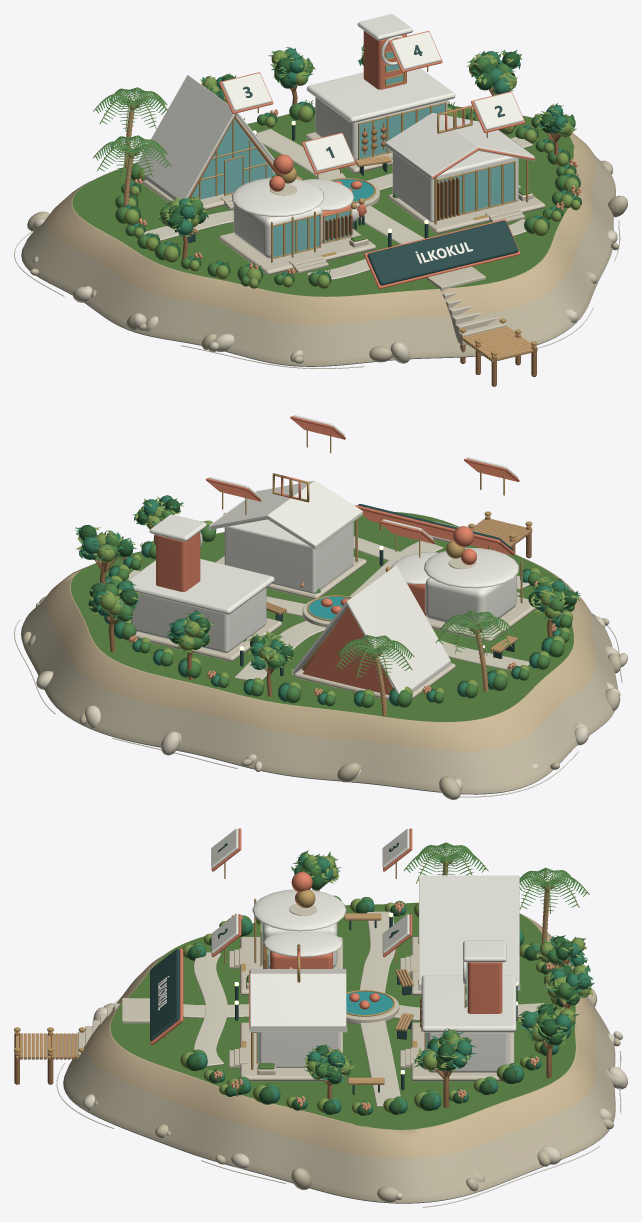
The model's file is ilkokul.glb.
3 views of the same model, one above another, from view 1: azimuth 30°, elevation 25°; view 2: azimuth 150°, elevation 25°; view 3: azimuth 270°, elevation 25° (orthographic). The views are drawn at different scales.
Visible parts, largest first — view 1: static, grade|2, grade|1, grade|3, grade|4; view 2: static, grade|2, grade|4, grade|3, grade|1; view 3: static, grade|2, grade|4, grade|3, grade|1.
Part boxes in pixels (<box>): static: <box>14,45,627,386</box>; grade|2: <box>385,91,545,233</box>; grade|1: <box>219,132,375,275</box>; grade|3: <box>137,72,278,210</box>; grade|4: <box>305,14,455,173</box>; static: <box>14,495,627,799</box>; grade|2: <box>209,415,366,599</box>; grade|4: <box>129,477,281,661</box>; grade|3: <box>292,519,455,700</box>; grade|1: <box>390,457,535,642</box>; static: <box>14,842,627,1207</box>; grade|2: <box>211,914,347,1081</box>; grade|4: <box>382,914,516,1081</box>; grade|3: <box>382,828,520,995</box>; grade|1: <box>211,828,346,995</box>.
Bounding box in the file's own units: 19.75 × 6.51 × 18.47.
